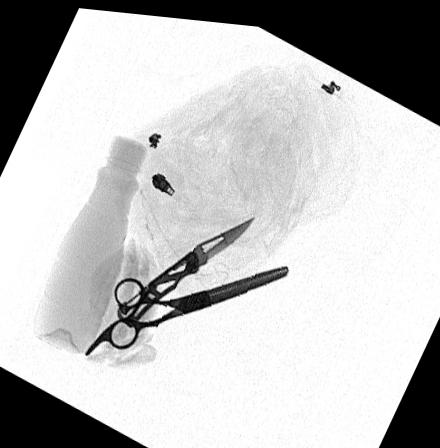Knife: (116, 210, 254, 324)
Scissors: (81, 259, 286, 356)
